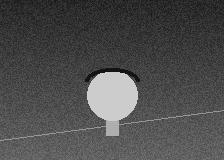no_helmet: (87, 68, 137, 125)
